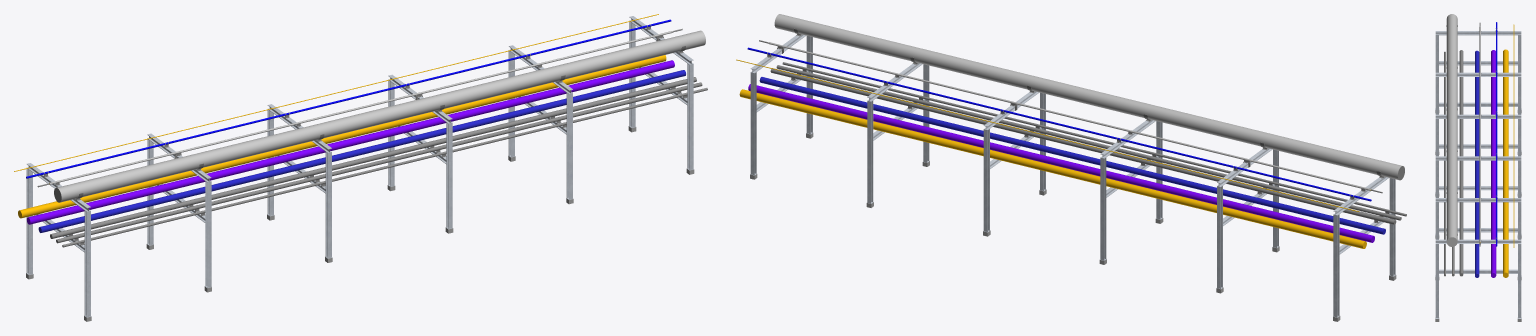
3 views of the same model, side by side, from view 1: azimuth 30°, elevation 25°; view 2: azimuth 150°, elevation 25°; view 3: azimuth 270°, elevation 25° (orthographic). The views are drawn at different scales.
Parts seen in each view (by area): view 1: mesh-1, mesh-0, mesh-3, mesh-5; view 2: mesh-1, mesh-0, mesh-3, mesh-5; view 3: mesh-3, mesh-1, mesh-0, mesh-5.
Boxes of the visible parts, bbox=[...] form: mesh-1: bbox=[26, 19, 705, 321]; mesh-0: bbox=[14, 14, 707, 247]; mesh-3: bbox=[26, 16, 693, 317]; mesh-5: bbox=[50, 31, 672, 184]; mesh-1: bbox=[747, 14, 1401, 321]; mesh-0: bbox=[736, 28, 1406, 248]; mesh-3: bbox=[750, 34, 1395, 317]; mesh-5: bbox=[768, 42, 1370, 190]; mesh-3: bbox=[1435, 31, 1521, 318]; mesh-1: bbox=[1435, 14, 1521, 321]; mesh-0: bbox=[1444, 22, 1514, 277]; mesh-5: bbox=[1479, 26, 1480, 241].
Size of the model in its own units: 32.07 by 6.14 by 5.24.
10 materials, 2 textured.
